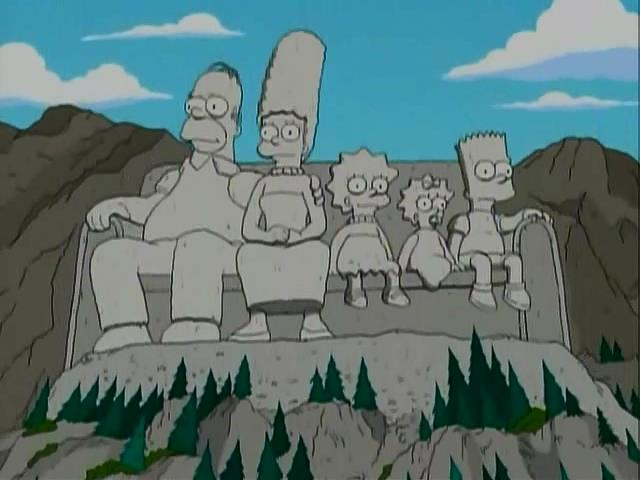Bart: (445, 115, 562, 316)
Homer: (80, 44, 267, 352)
Lisa: (322, 147, 404, 312)
Maggie: (398, 167, 453, 300)
Marge: (225, 21, 364, 342)
